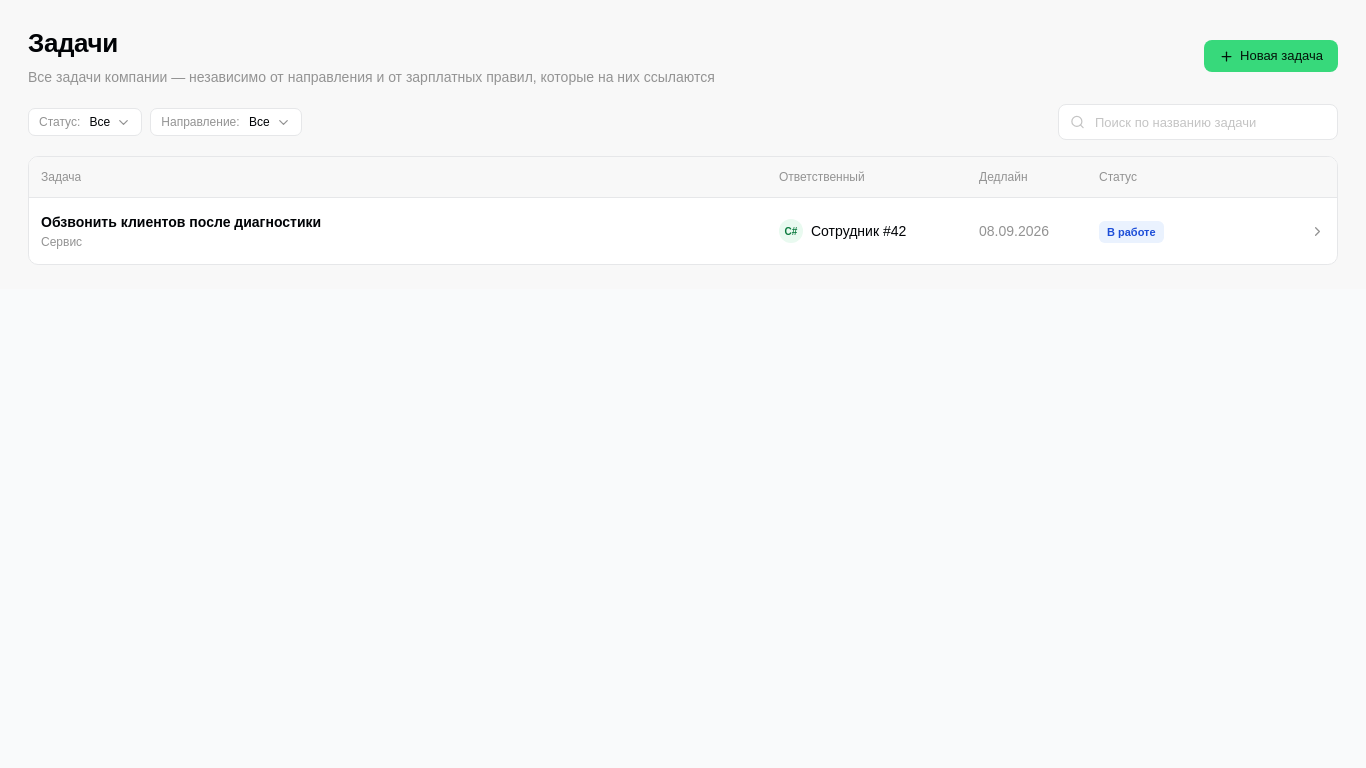
Test: TasksPageMediator › opening a task row shows its full card via TaskStatusControl (GET /v1/tasks/:id)
Click the text "Обзвонить клиентов после диагностики" at (181, 222), box [41, 214, 321, 230]
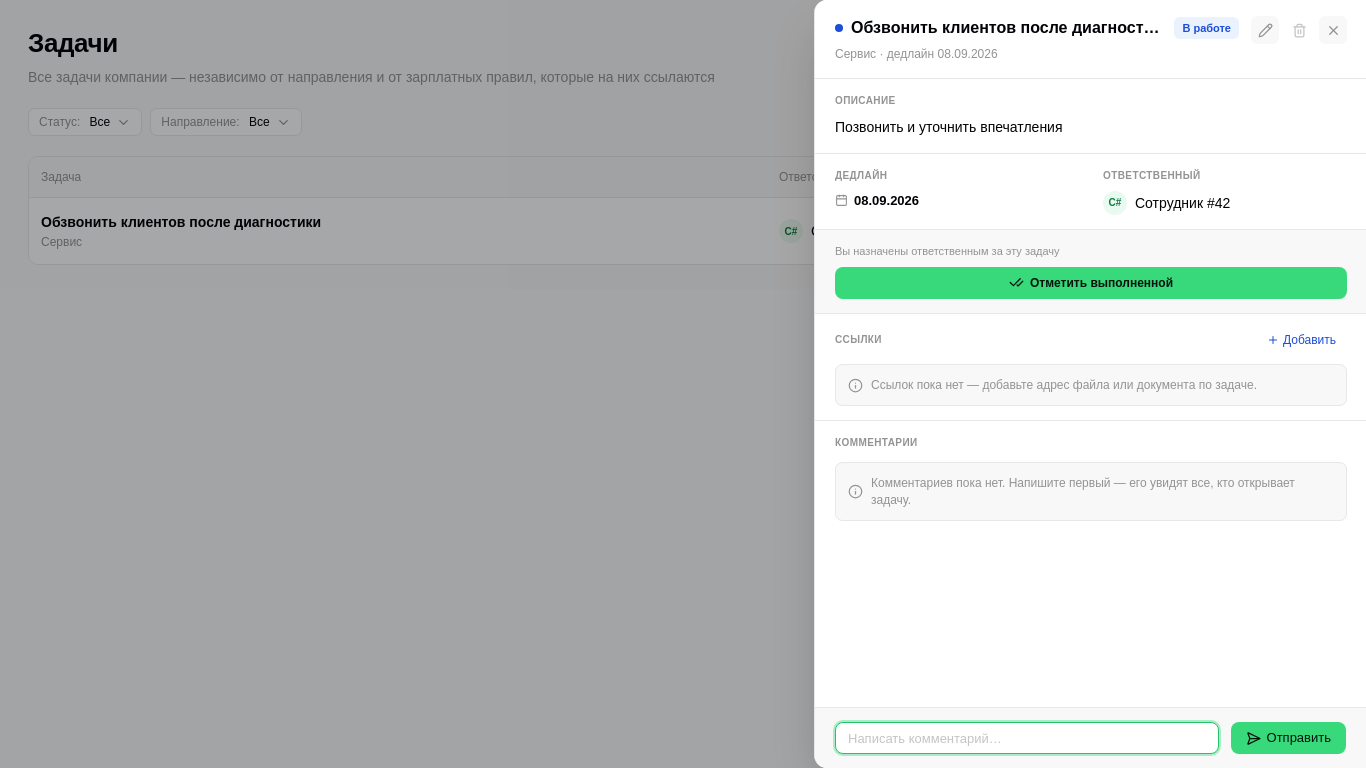
Expected: the text "Позвонить и уточнить впечатления" is shown, [835, 119, 1062, 135]
